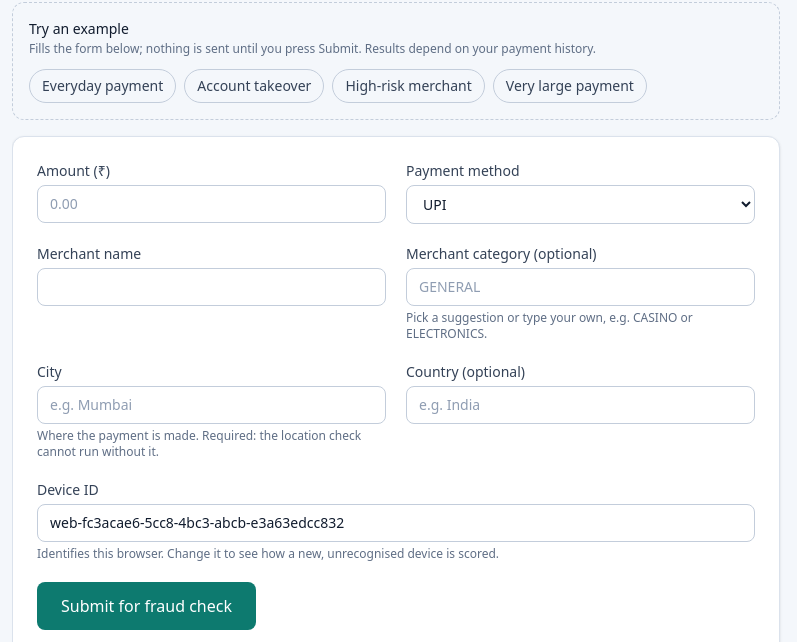
Test: SubmitTransaction: B-01 + C-01 › shows the breakdown in the result and no replay note on a normal 201
This screenshot has width=797, height=642.
Type "1200" into the number field labelled "Amount (₹)" at (212, 204), box [37, 185, 386, 223]
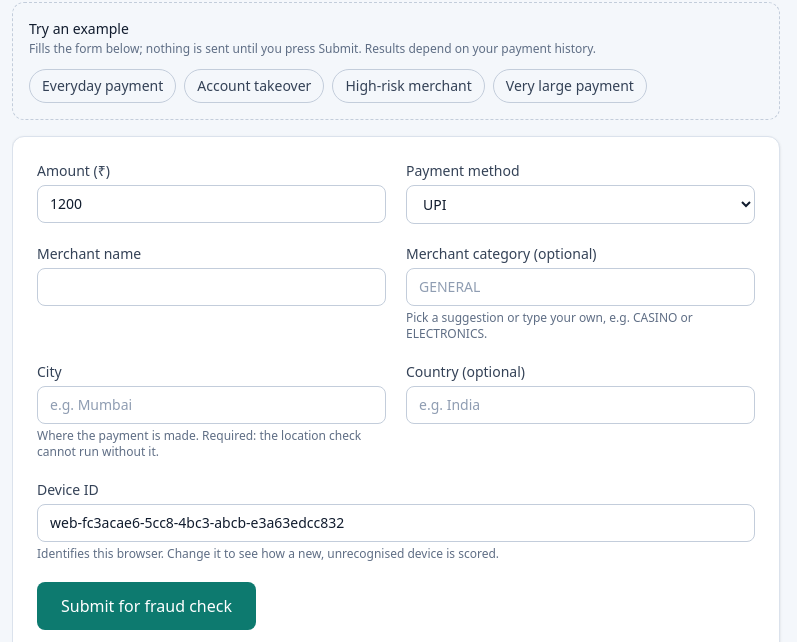
Type "Cafe" into the field labelled "Merchant name" at (212, 287), box [37, 268, 386, 306]
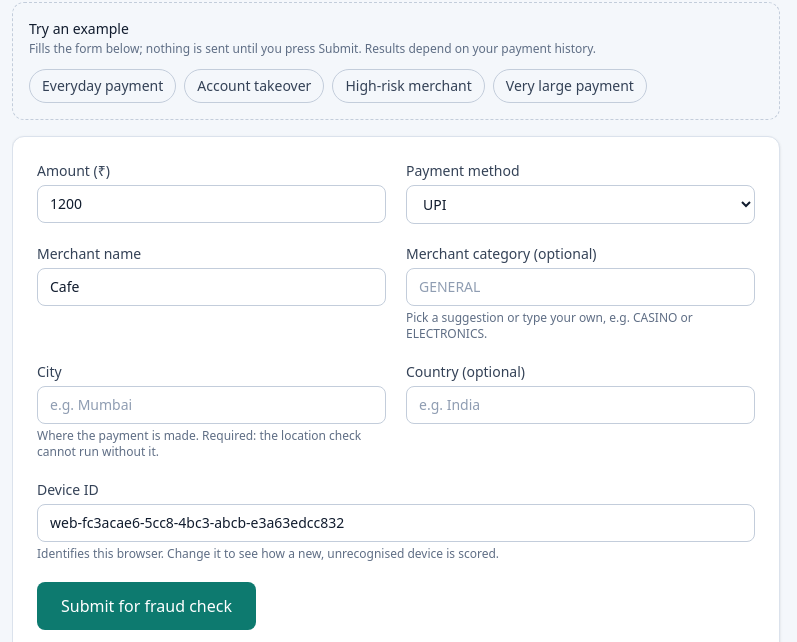
Type "Pune" into the field labelled "City" at (212, 405), box [37, 386, 386, 424]
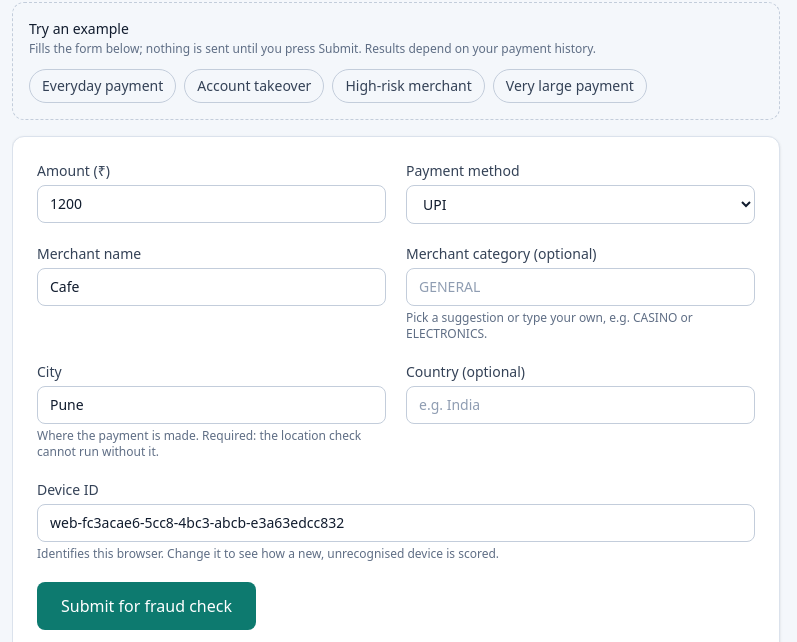
Click the button "Submit for fraud check" at (146, 606), box [37, 582, 256, 630]
(page scrolled)
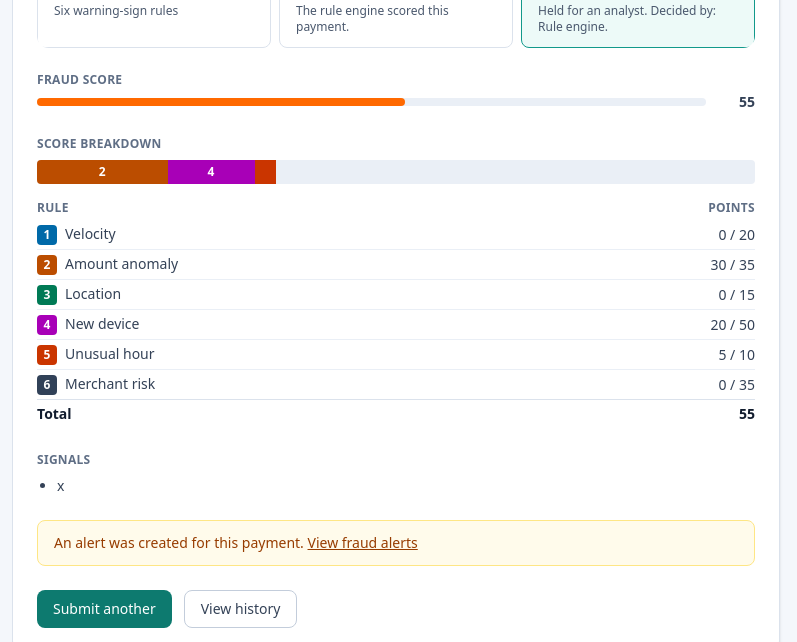
Expected: the element with test id "score-breakdown" is shown, [37, 136, 755, 428]
